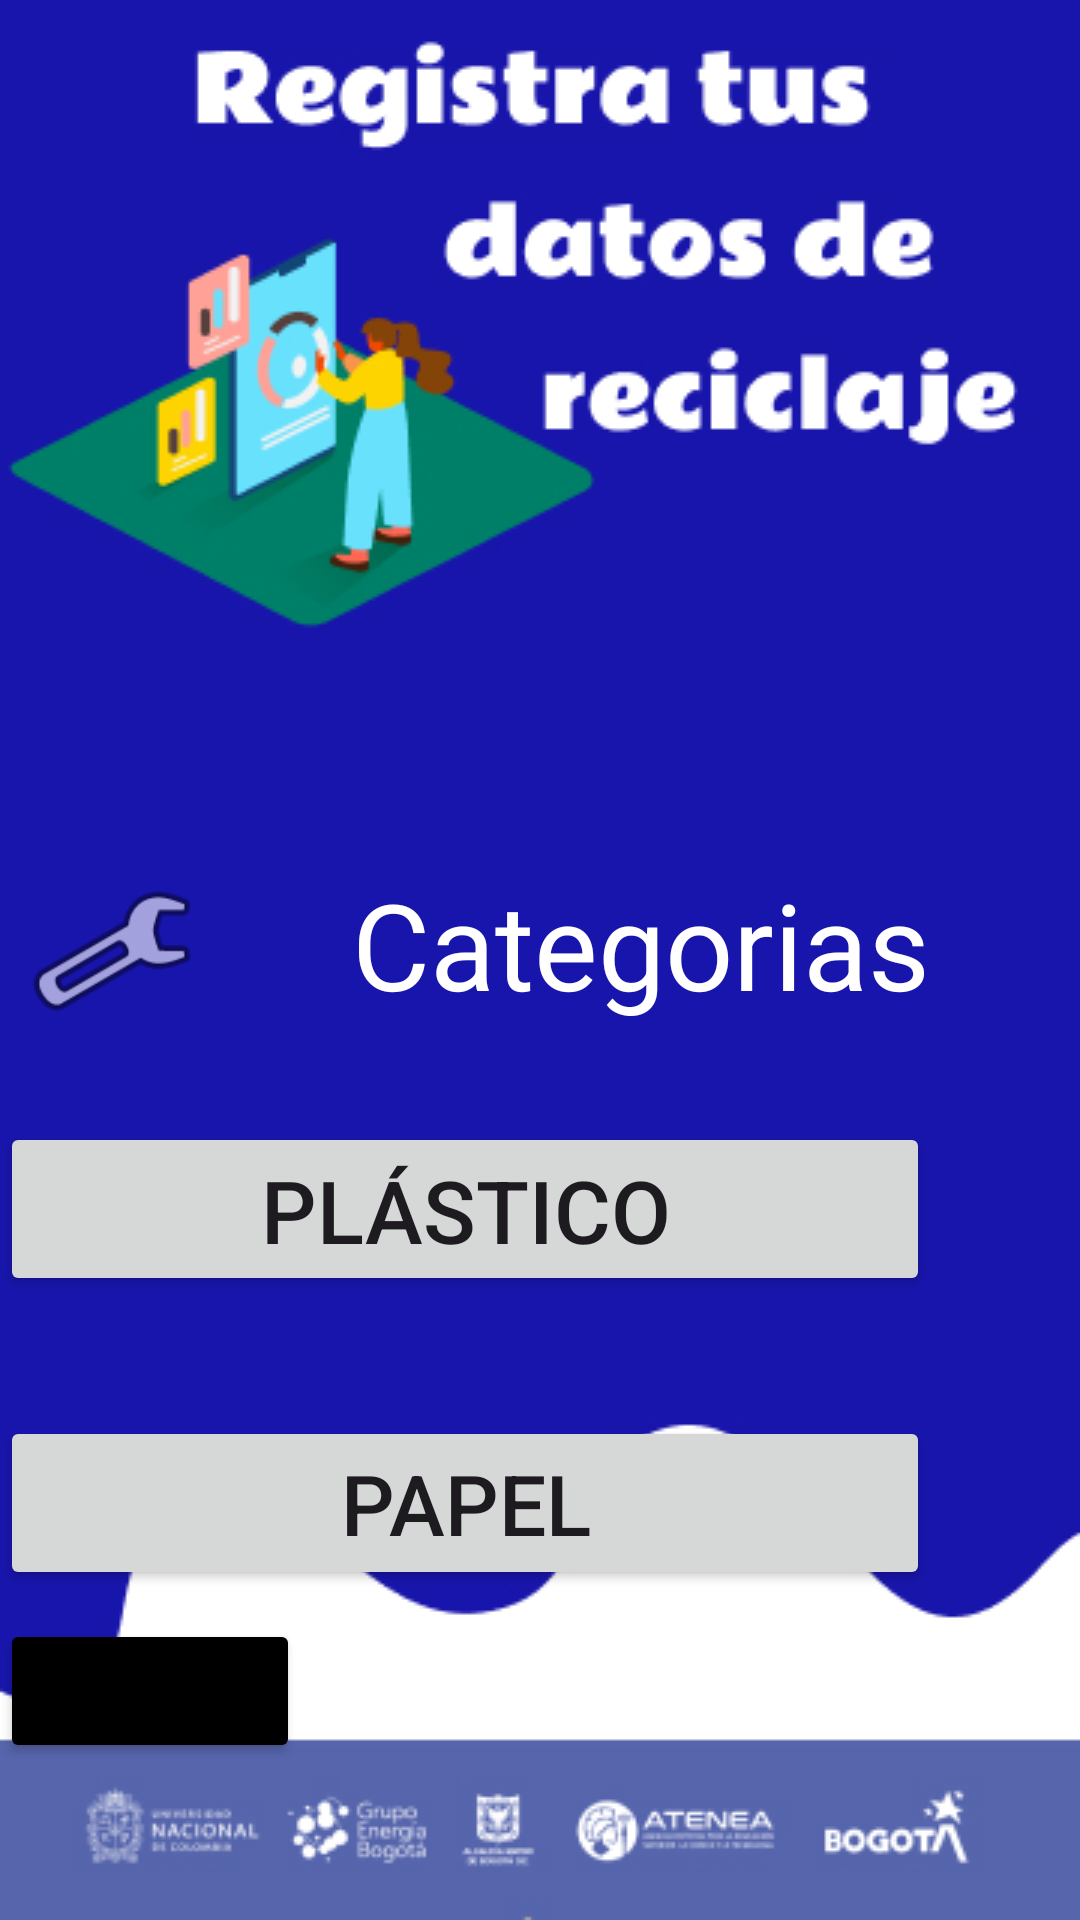

Icon bounding boxes for this 1080x1920 phone screenshot, format (x1, y1, x2, y2):
manage: (34, 891, 190, 1011)
